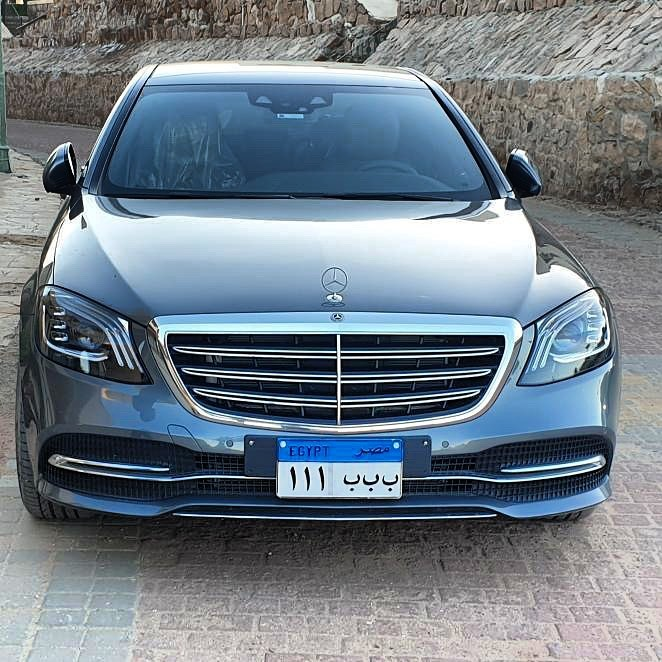carpl: (273, 446, 405, 498)
